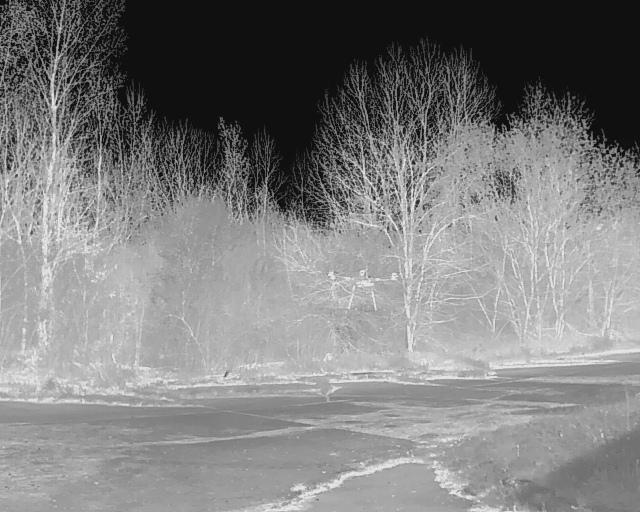drone: (305, 262, 409, 324)
